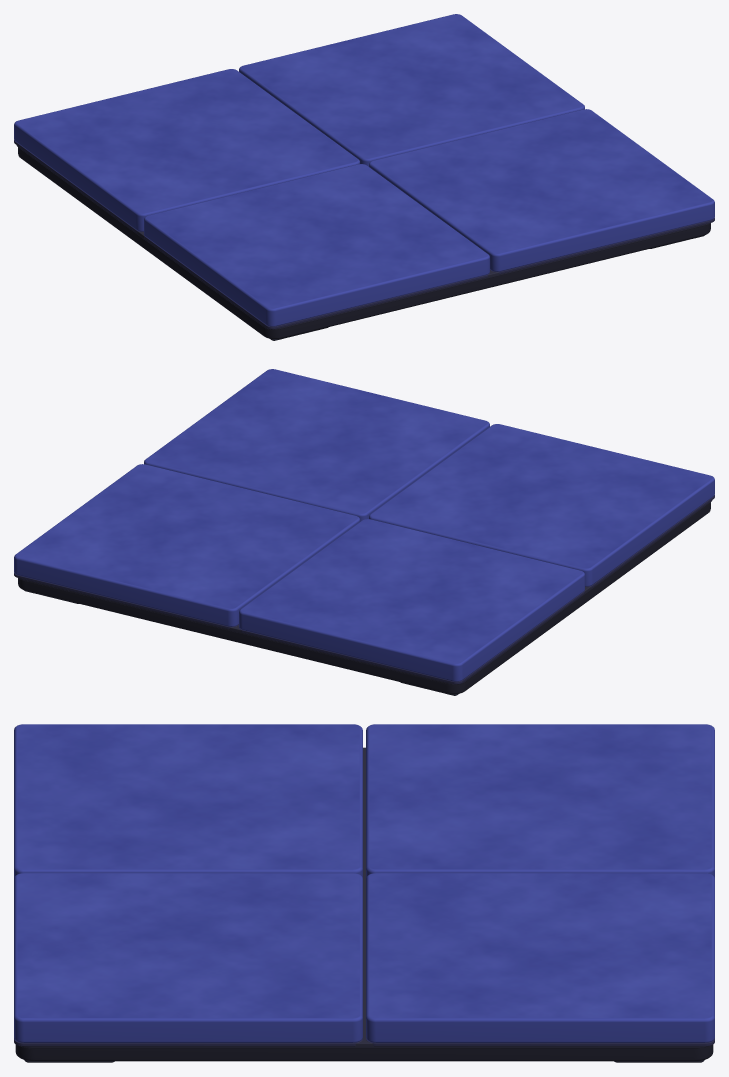
File: StudioFloorTile.glb
The picture shows the model from 3 angles, top to bottom: view 1: azimuth 30°, elevation 25°; view 2: azimuth 150°, elevation 25°; view 3: azimuth 270°, elevation 25°; orthographic projection. The views are drawn at different scales.
Parts seen in each view (by area): view 1: Tile_1_2_CeramicTop, Tile_2_2_CeramicTop, Tile_1_1_CeramicTop, Tile_2_1_CeramicTop, DarkStructuralBase, UpperBaseContactRim, Tile_1_2_Underside, Tile_2_2_Underside; view 2: Tile_1_1_CeramicTop, Tile_2_1_CeramicTop, Tile_1_2_CeramicTop, Tile_2_2_CeramicTop, DarkStructuralBase, UpperBaseContactRim, Tile_1_1_Underside, Tile_2_1_Underside; view 3: Tile_2_1_CeramicTop, Tile_2_2_CeramicTop, Tile_1_1_CeramicTop, Tile_1_2_CeramicTop, DarkStructuralBase, UpperBaseContactRim, Tile_2_1_Underside, Tile_2_2_Underside.
Boxes of the visible parts, left/top/right/bottom form: Tile_1_2_CeramicTop: left=144, top=164, right=489, bottom=326; Tile_2_2_CeramicTop: left=369, top=109, right=714, bottom=271; Tile_1_1_CeramicTop: left=14, top=69, right=359, bottom=231; Tile_2_1_CeramicTop: left=239, top=14, right=584, bottom=166; DarkStructuralBase: left=18, top=147, right=710, bottom=339; UpperBaseContactRim: left=16, top=145, right=710, bottom=329; Tile_1_2_Underside: left=144, top=235, right=489, bottom=329; Tile_2_2_Underside: left=490, top=217, right=714, bottom=274; Tile_1_1_CeramicTop: left=239, top=519, right=584, bottom=681; Tile_2_1_CeramicTop: left=14, top=464, right=359, bottom=626; Tile_1_2_CeramicTop: left=369, top=424, right=714, bottom=586; Tile_2_2_CeramicTop: left=144, top=369, right=489, bottom=521; DarkStructuralBase: left=18, top=502, right=710, bottom=694; UpperBaseContactRim: left=18, top=500, right=712, bottom=684; Tile_1_1_Underside: left=239, top=590, right=584, bottom=684; Tile_2_1_Underside: left=14, top=572, right=238, bottom=629; Tile_2_1_CeramicTop: left=366, top=873, right=714, bottom=1042; Tile_2_2_CeramicTop: left=14, top=873, right=362, bottom=1042; Tile_1_1_CeramicTop: left=366, top=724, right=714, bottom=878; Tile_1_2_CeramicTop: left=14, top=724, right=362, bottom=878; DarkStructuralBase: left=15, top=1044, right=713, bottom=1061; UpperBaseContactRim: left=20, top=747, right=708, bottom=1048; Tile_2_1_Underside: left=366, top=1038, right=714, bottom=1046; Tile_2_2_Underside: left=14, top=1038, right=362, bottom=1046.
Bounding box in the file's own units: 1.99 × 0.152 × 1.99.
Materials: 7 (7 with a texture image).
